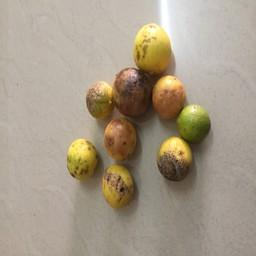Bad_lime: (132, 20, 173, 71), (101, 117, 143, 164), (100, 167, 138, 210), (116, 67, 148, 118), (82, 76, 115, 125), (65, 137, 100, 183), (158, 139, 193, 184), (155, 74, 183, 118)
